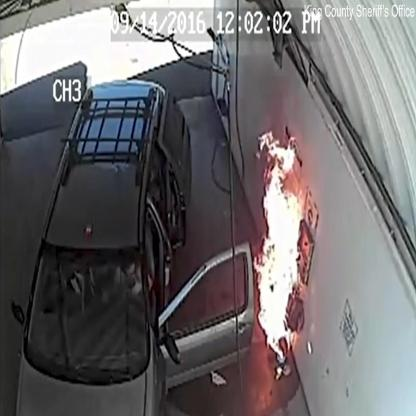fire: (253, 132, 300, 363)
